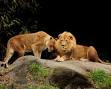lion: (4, 30, 57, 70), (55, 29, 102, 63)
